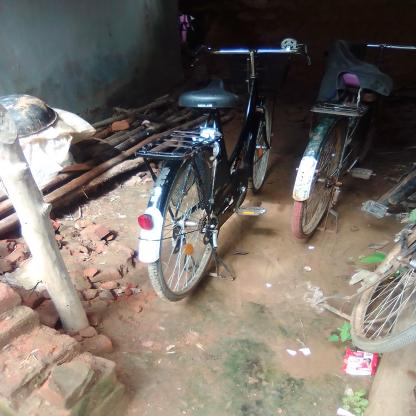bike: (121, 23, 306, 306), (298, 12, 406, 263)
